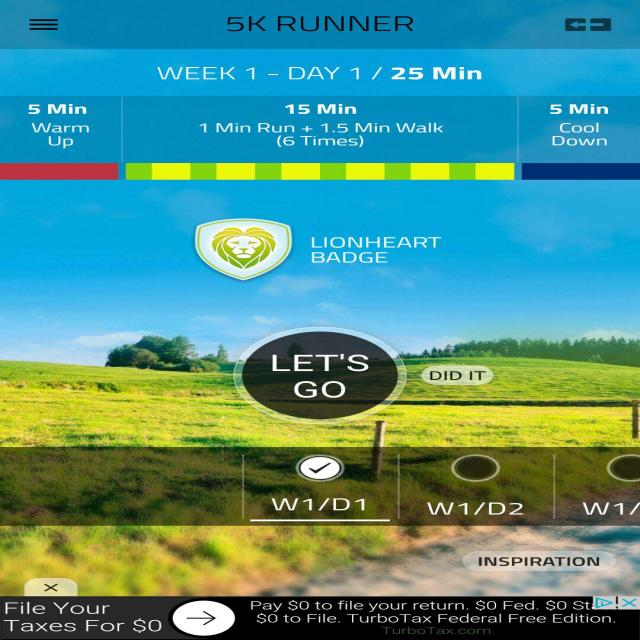button: (170, 211, 456, 264), (142, 0, 437, 45), (165, 116, 481, 155), (244, 324, 386, 408), (56, 57, 332, 88), (409, 364, 550, 414), (0, 4, 115, 46), (370, 60, 533, 87), (508, 88, 640, 116), (405, 461, 565, 484), (214, 100, 459, 114), (482, 11, 640, 31), (573, 453, 640, 491), (305, 462, 366, 496), (540, 124, 631, 145), (174, 589, 209, 640), (13, 126, 155, 131), (11, 106, 116, 108)
icon: (237, 345, 396, 412), (160, 13, 450, 44), (195, 215, 296, 278), (509, 7, 636, 39), (16, 6, 96, 48)
image: (26, 284, 640, 449)
text: (251, 598, 601, 634), (182, 116, 511, 146), (75, 60, 334, 84), (15, 594, 167, 633), (212, 11, 461, 34), (278, 351, 372, 400), (316, 232, 427, 272), (515, 84, 633, 116), (262, 92, 454, 111), (393, 60, 515, 84), (561, 120, 628, 160), (561, 492, 640, 524), (276, 498, 378, 520), (24, 124, 119, 147), (13, 98, 100, 112), (427, 494, 522, 506), (474, 550, 622, 557), (414, 375, 506, 385)
